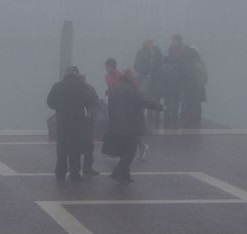person: (45, 65, 93, 184), (106, 68, 149, 185), (179, 46, 207, 129), (132, 38, 164, 75), (168, 31, 191, 61), (103, 56, 125, 86)
